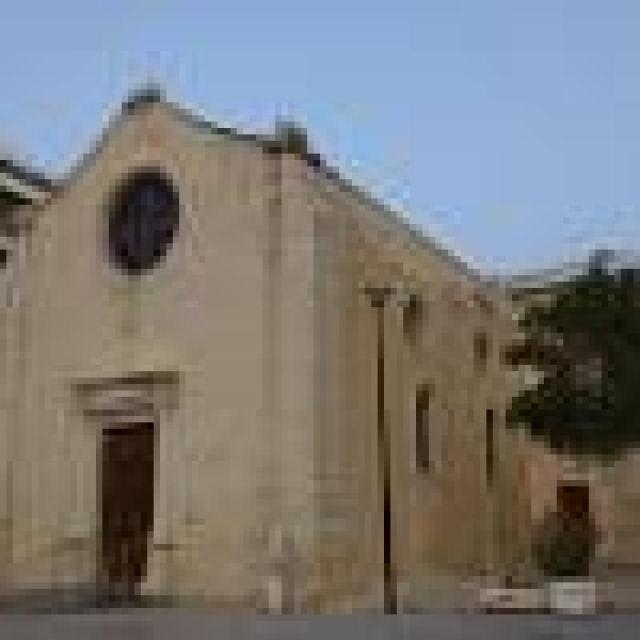Agia Aikaterini: (4, 79, 594, 623)
